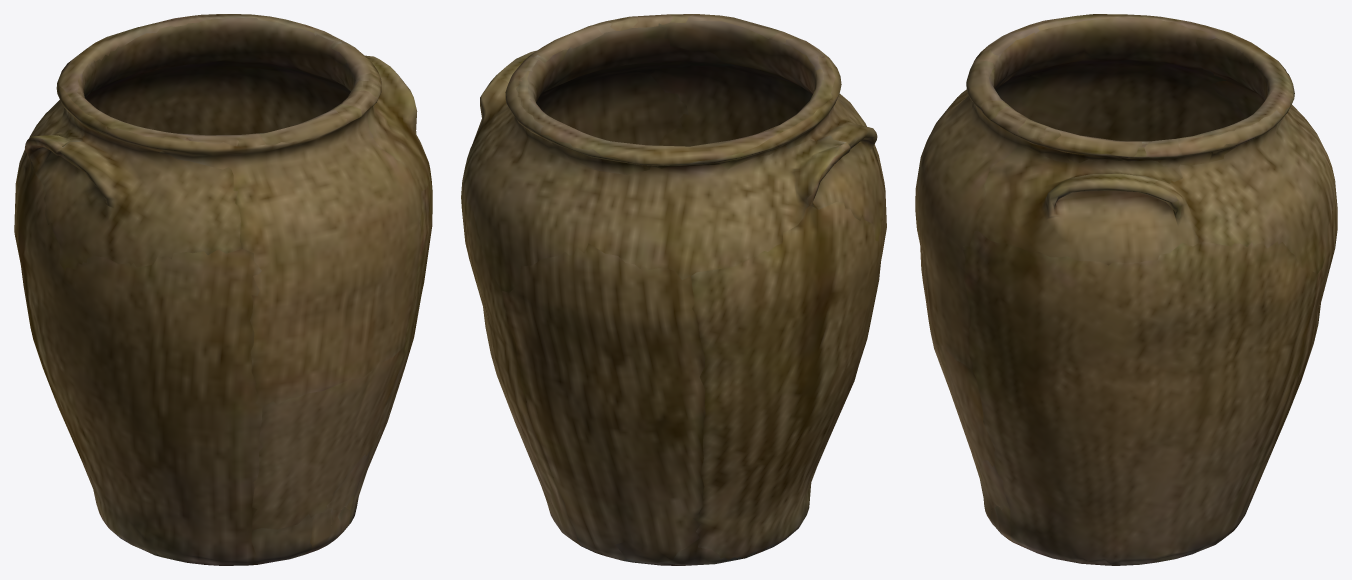
Rendered from si-jar-made-by-dave.lod1.glb.
3 views of the same model, side by side, from view 1: azimuth 30°, elevation 25°; view 2: azimuth 150°, elevation 25°; view 3: azimuth 270°, elevation 25° (orthographic).
Parts seen in each view (by area): view 1: sourced_fit; view 2: sourced_fit; view 3: sourced_fit.
Boxes of the visible parts, x1,y1,x2,y2 form: sourced_fit: (14, 14, 432, 565); sourced_fit: (461, 14, 886, 565); sourced_fit: (915, 14, 1337, 565).
Bounding box in the file's own units: 0.4596 × 0.5246 × 0.4588.
1 material, 1 textured.
